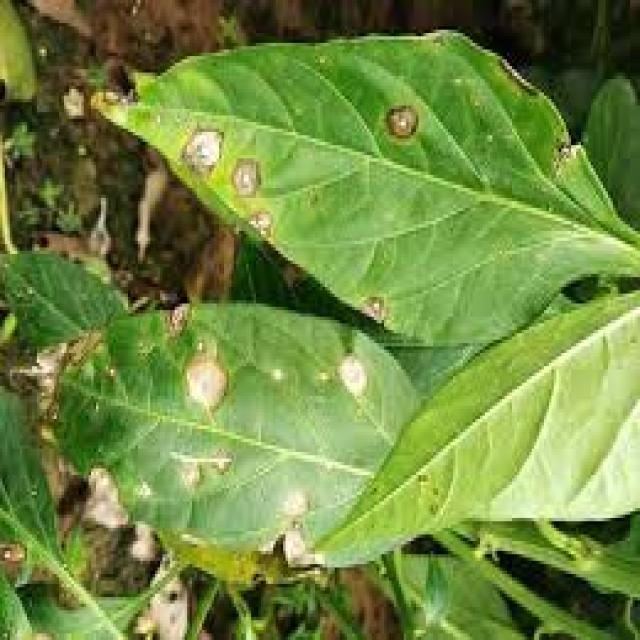leaf_spot: (108, 58, 534, 324), (51, 286, 416, 571)
